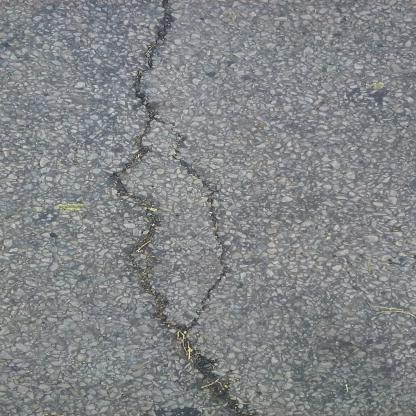Cracks: (94, 0, 256, 415)
